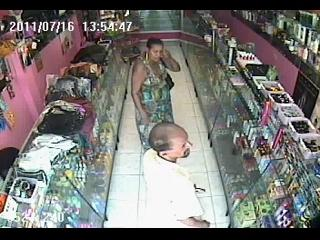Normal: (142, 122, 208, 228), (130, 38, 180, 152)
